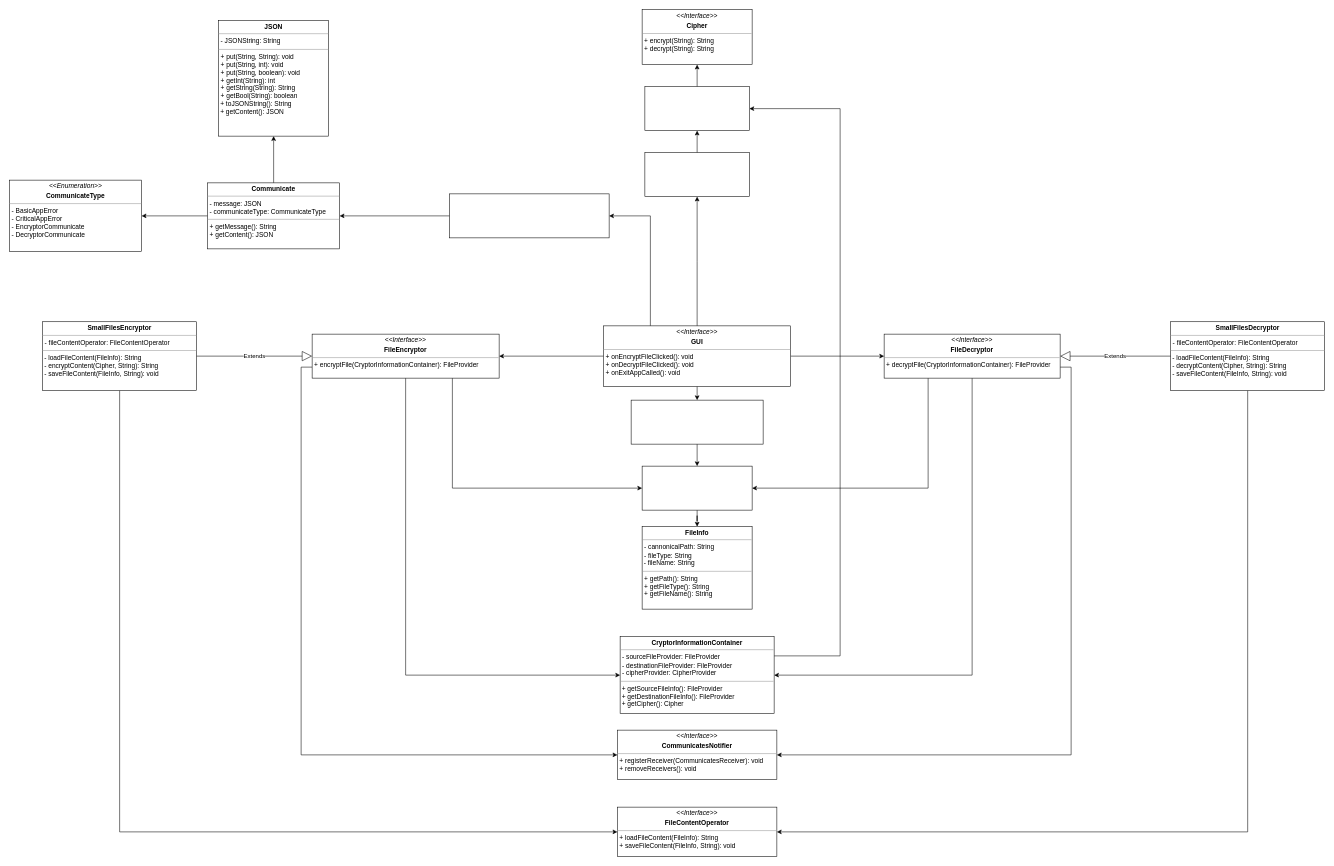
This 1334x866 diagram has some shape labels left out. Each missing label, with the centre of its shape:
"<<Interface>> CipherMethodSelector + selectCipher(): CipherProvider" goes at pixel 696 174.
"<<Interface>> CipherProvider + getCipher(): Cipher" goes at pixel 696 108.
"<<Interface>> CommunicatesReceiver + onCommunicateOccured(Communicate): void" goes at pixel 529 215.
"<<Interface>> FileProvider + getFileInfo(): FileInfo" goes at pixel 697 488.
"<<Interface>> FileSelector + selectFile(): FileProvider" goes at pixel 697 422.
